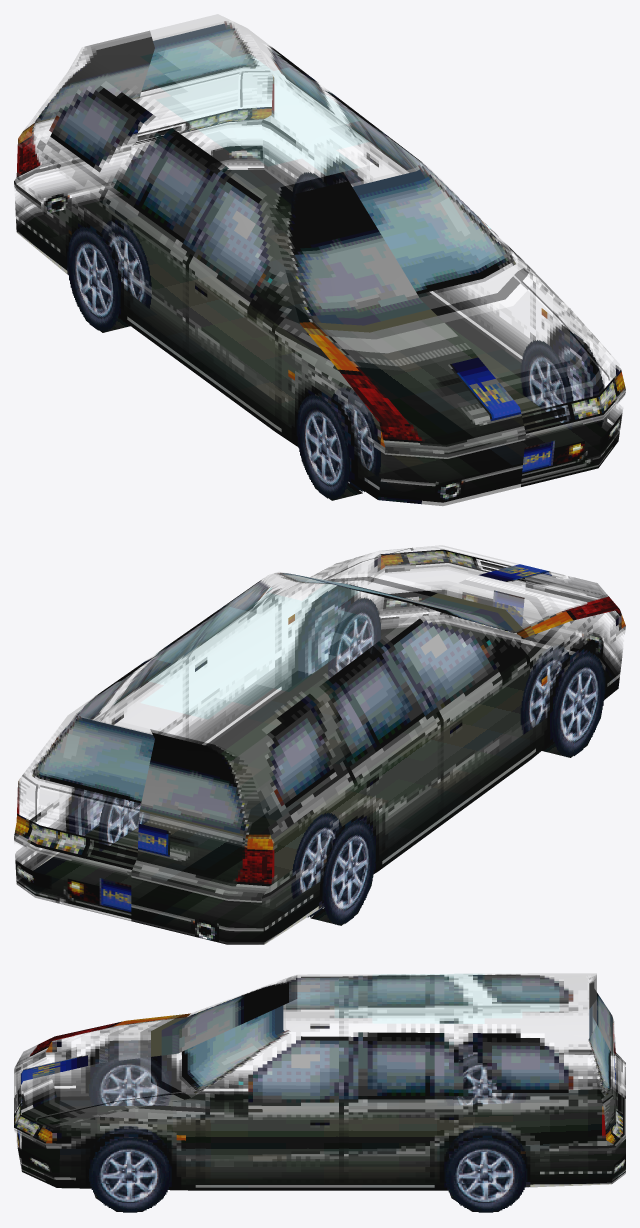
File: traffic-238.glb
3 views of the same model, one above another, from view 1: azimuth 30°, elevation 25°; view 2: azimuth 150°, elevation 25°; view 3: azimuth 270°, elevation 25° (orthographic). The views are drawn at different scales.
Visible parts, largest first — view 1: body, front axle wheels, rear axle wheels; view 2: body, front axle wheels, rear axle wheels; view 3: body, front axle wheels, rear axle wheels.
Boxes of the visible parts, <box> form: body: <box>14,14,625,506</box>; front axle wheels: <box>296,333,603,499</box>; rear axle wheels: <box>67,172,326,331</box>; body: <box>14,545,625,944</box>; front axle wheels: <box>311,591,605,757</box>; rear axle wheels: <box>98,795,375,925</box>; body: <box>14,973,625,1211</box>; front axle wheels: <box>89,1053,171,1212</box>; rear axle wheels: <box>444,1054,527,1212</box>.
Bounding box in the file's own units: 18 × 14.48 × 48.17.
Materials: 6 (6 with a texture image).
